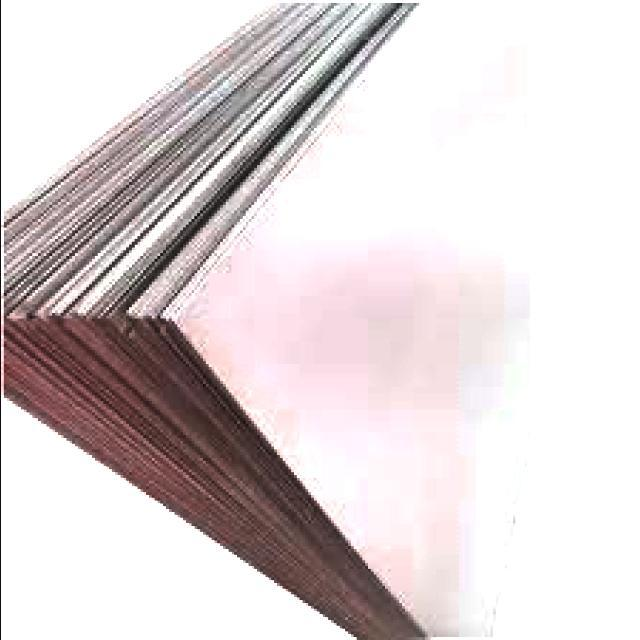Dry Waste: (2, 0, 560, 640)
